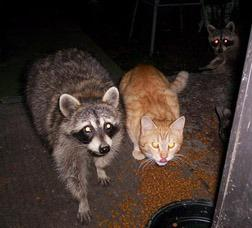raccoon: (21, 47, 126, 228)
